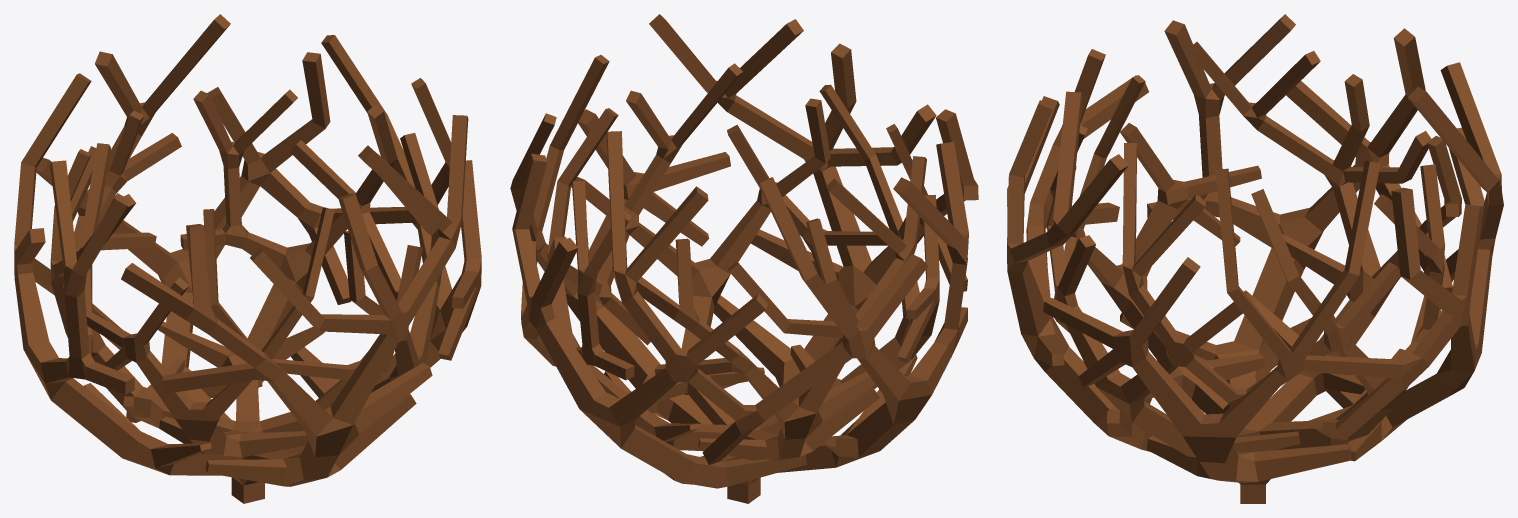
File: ww_tumbleweed.glb
3 views of the same model, side by side, from view 1: azimuth 30°, elevation 25°; view 2: azimuth 150°, elevation 25°; view 3: azimuth 270°, elevation 25° (orthographic). The views are drawn at different scales.
Visible parts, largest first — view 1: Tumbleweed; view 2: Tumbleweed; view 3: Tumbleweed.
Boxes of the visible parts, x1,y1,x2,y2 form: Tumbleweed: (14, 14, 481, 503); Tumbleweed: (510, 14, 978, 503); Tumbleweed: (1007, 14, 1503, 503).
Bounding box in the file's own units: 0.7719 × 0.7499 × 0.777.
